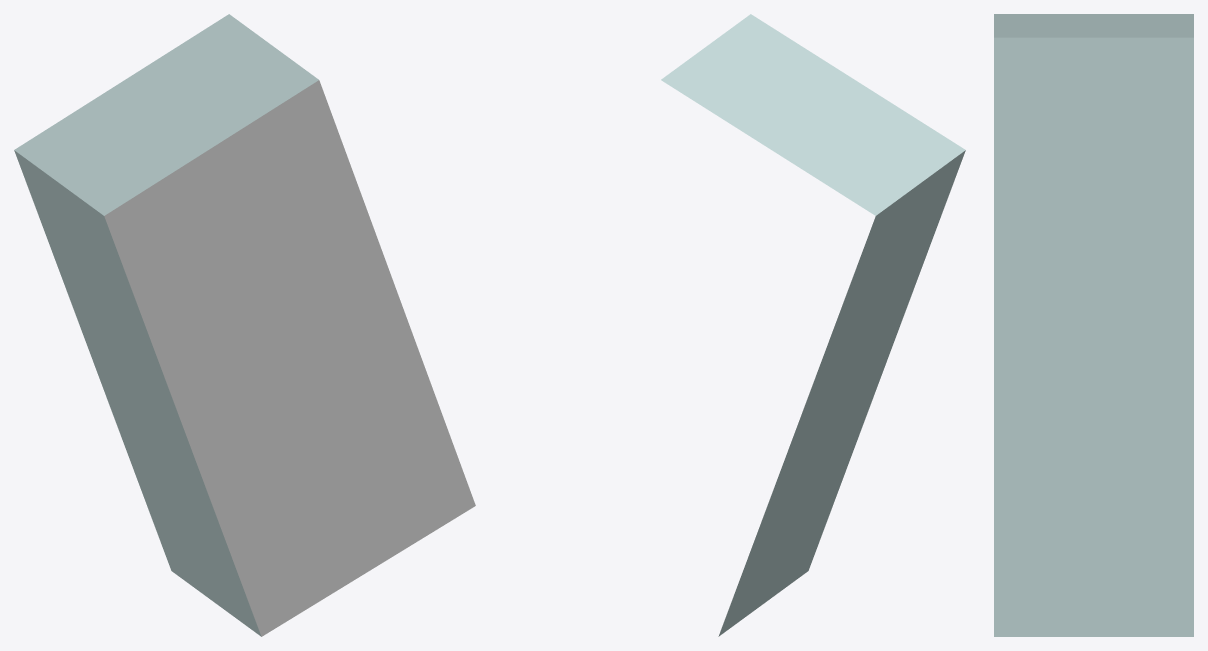
3 renders of one model, left to right at view 1: azimuth 30°, elevation 25°; view 2: azimuth 150°, elevation 25°; view 3: azimuth 270°, elevation 25°, orthographic. The views are drawn at different scales.
Parts seen in each view (by area): view 1: 0_1_1_2_3_1_2_3_1; view 2: 0_1_1_2_3_1_2_3_1; view 3: 0_1_1_2_3_1_2_3_1.
Part boxes in pixels (x1=…): 0_1_1_2_3_1_2_3_1: x1=14, y1=14, x2=475, y2=636; 0_1_1_2_3_1_2_3_1: x1=661, y1=14, x2=965, y2=636; 0_1_1_2_3_1_2_3_1: x1=994, y1=14, x2=1193, y2=636.
Bounding box in the file's own units: 7.14 × 9.97 × 3.
